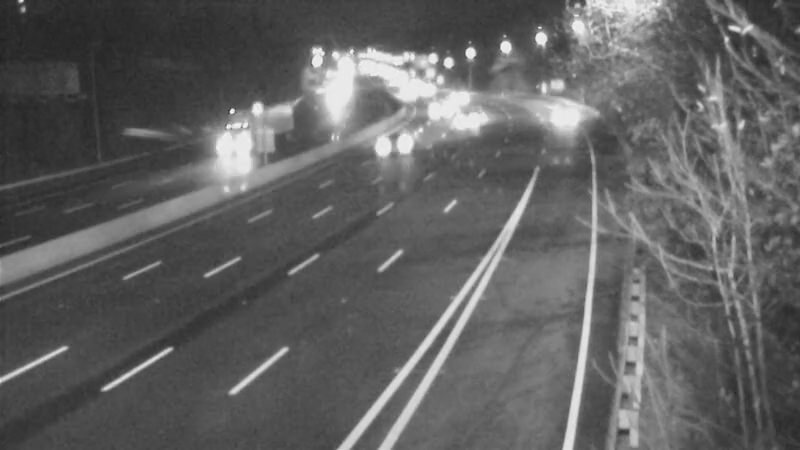vehicle: (381, 69, 431, 119), (429, 70, 479, 120), (540, 91, 590, 141), (407, 78, 457, 128), (445, 94, 495, 144), (365, 117, 415, 167), (209, 119, 259, 169)
